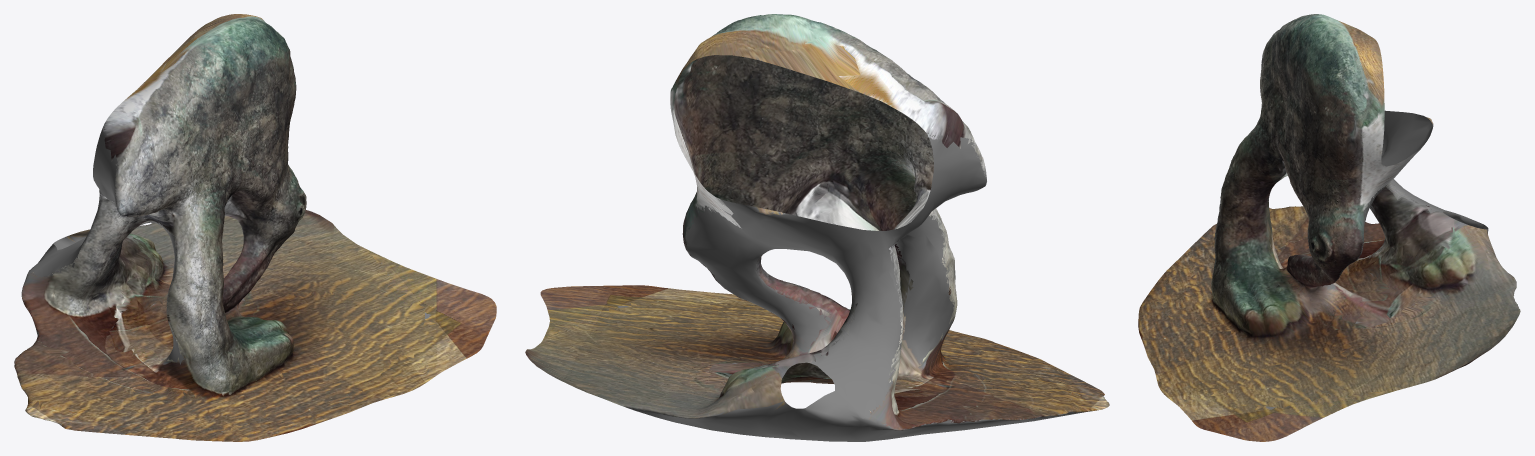
File: kiekeboeBird.obj
The picture shows the model from 3 angles, left to right: view 1: azimuth 30°, elevation 25°; view 2: azimuth 150°, elevation 25°; view 3: azimuth 270°, elevation 25°; orthographic projection. The views are drawn at different scales.
Parts seen in each view (by area): view 1: default; view 2: default; view 3: default.
Part boxes in pixels (left/top/right/bottom): default: left=14, top=14, right=496, bottom=441; default: left=525, top=14, right=1109, bottom=441; default: left=1138, top=14, right=1520, bottom=441.
Size of the model in its own units: 33.59 by 22.24 by 23.91.
Materials: 2 (1 with a texture image).
